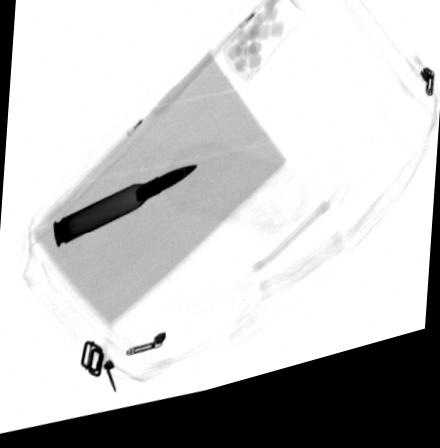Bullet: (51, 173, 201, 252)
